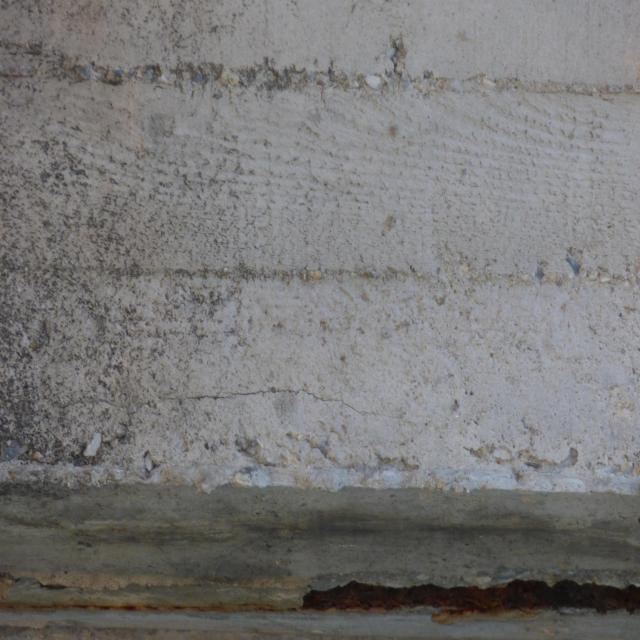horizontal crack: (0, 383, 405, 425)
